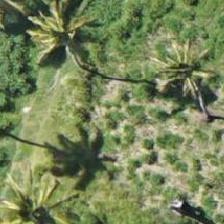coconut_tree: (14, 0, 104, 82), (141, 42, 223, 132)
